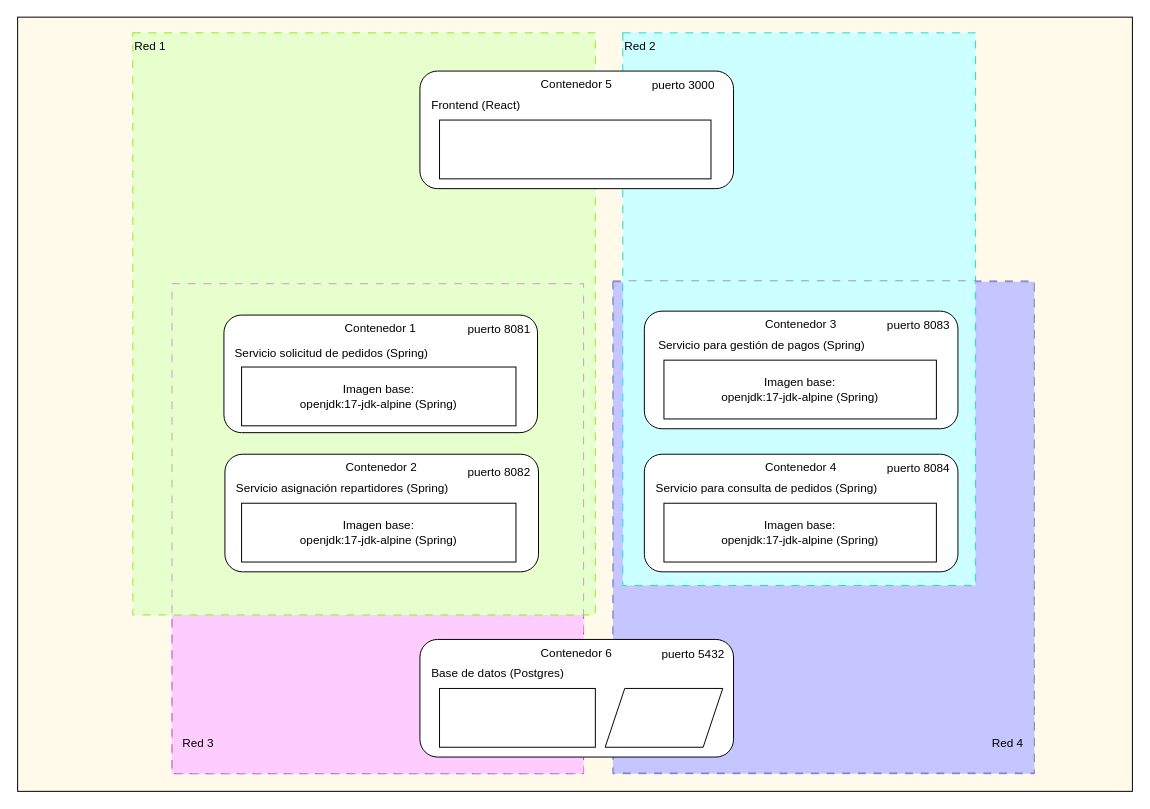
This 1150x809 diagram has some shape labels left out. Each missing label, with the centre of its shape:
"Imagen base: Node:16-alpine (React)" goes at (575,149).
"Imagen base: postgres:13-alpine" goes at (517,717).
"Volumen: db_data" goes at (663,717).
